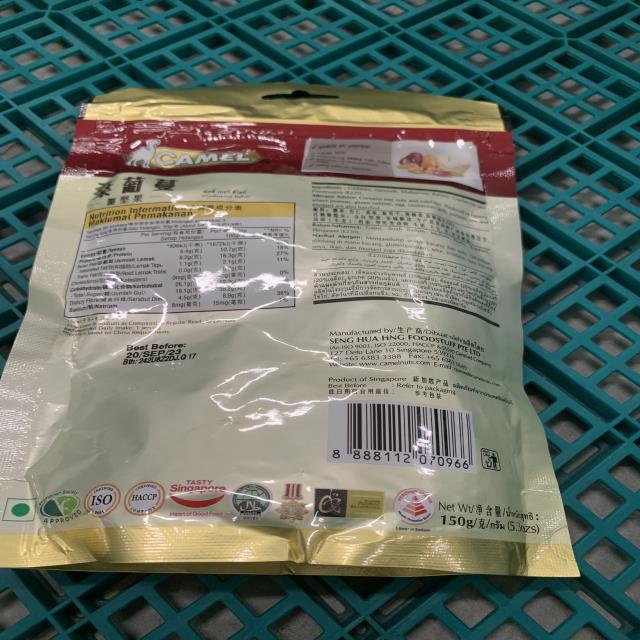object_name: (35, 93, 541, 567)
